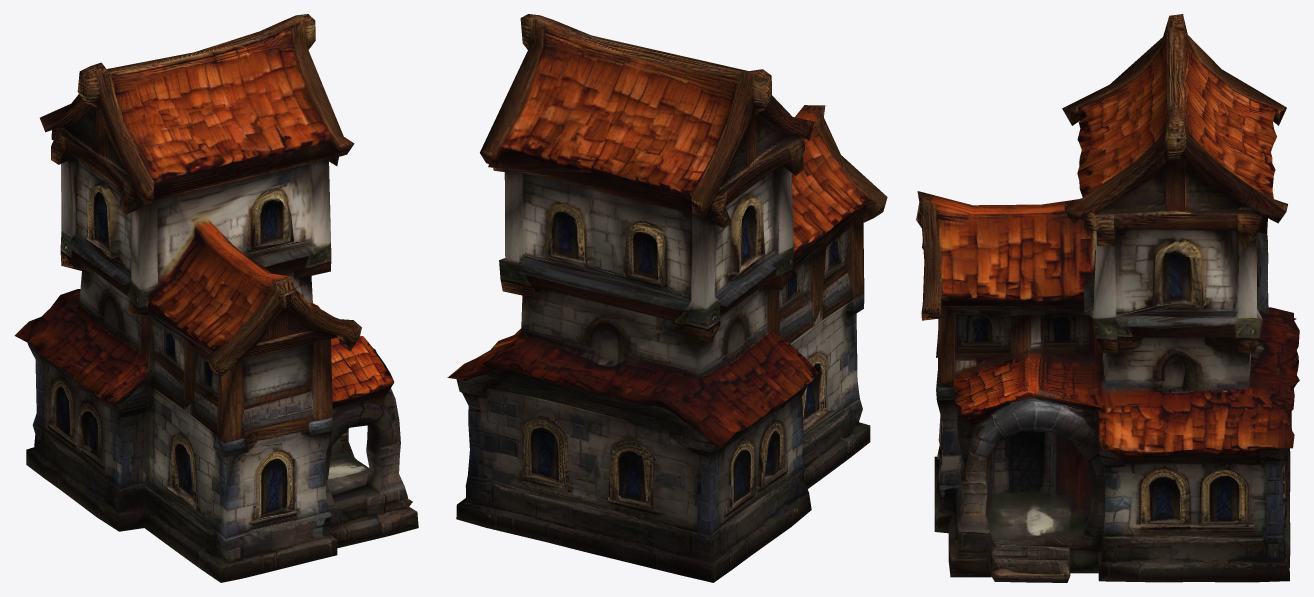
The model's file is Tavern.fbx.
3 renders of one model, left to right at view 1: azimuth 30°, elevation 25°; view 2: azimuth 150°, elevation 25°; view 3: azimuth 270°, elevation 25°, orthographic. The views are drawn at different scales.
Visible parts, largest first — view 1: tripo_node_694c6da9-c146-47c0-b773-b515eb3e1ba1; view 2: tripo_node_694c6da9-c146-47c0-b773-b515eb3e1ba1; view 3: tripo_node_694c6da9-c146-47c0-b773-b515eb3e1ba1.
Part boxes in pixels (x1=…): tripo_node_694c6da9-c146-47c0-b773-b515eb3e1ba1: x1=14, y1=14, x2=418, y2=582; tripo_node_694c6da9-c146-47c0-b773-b515eb3e1ba1: x1=447, y1=14, x2=887, y2=582; tripo_node_694c6da9-c146-47c0-b773-b515eb3e1ba1: x1=916, y1=14, x2=1299, y2=582.
Bounding box in the file's own units: 62.32 × 100 × 77.03.
Materials: 1 (1 with a texture image).
